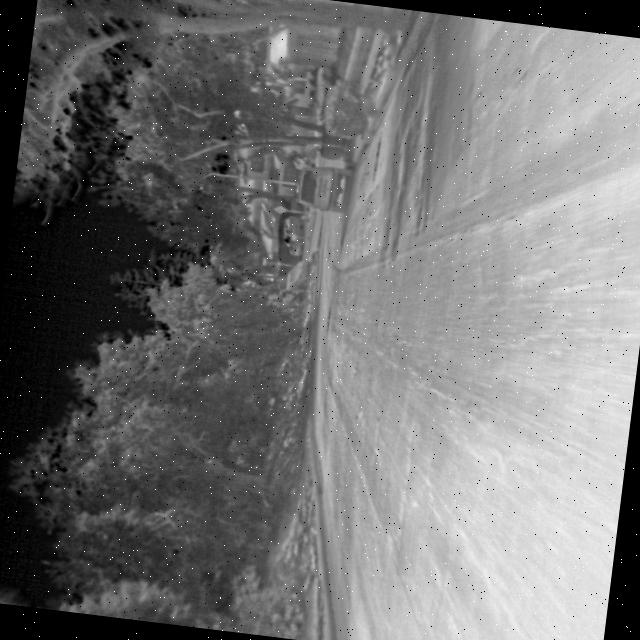Vehicle: (290, 159, 356, 216), (277, 212, 310, 257)
